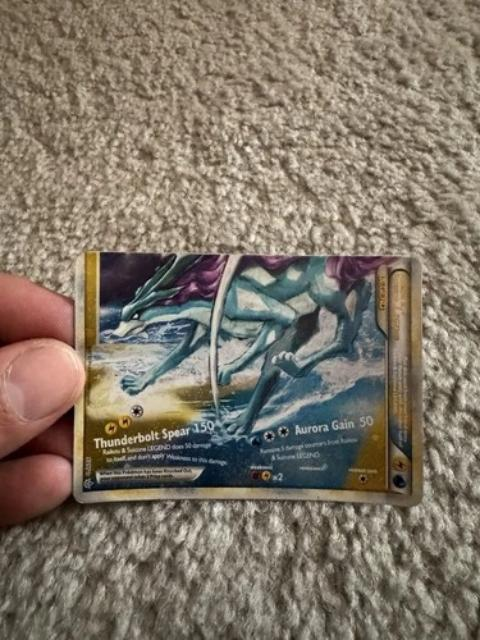Card: (69, 248, 427, 511)
Name: (387, 265, 413, 353)
